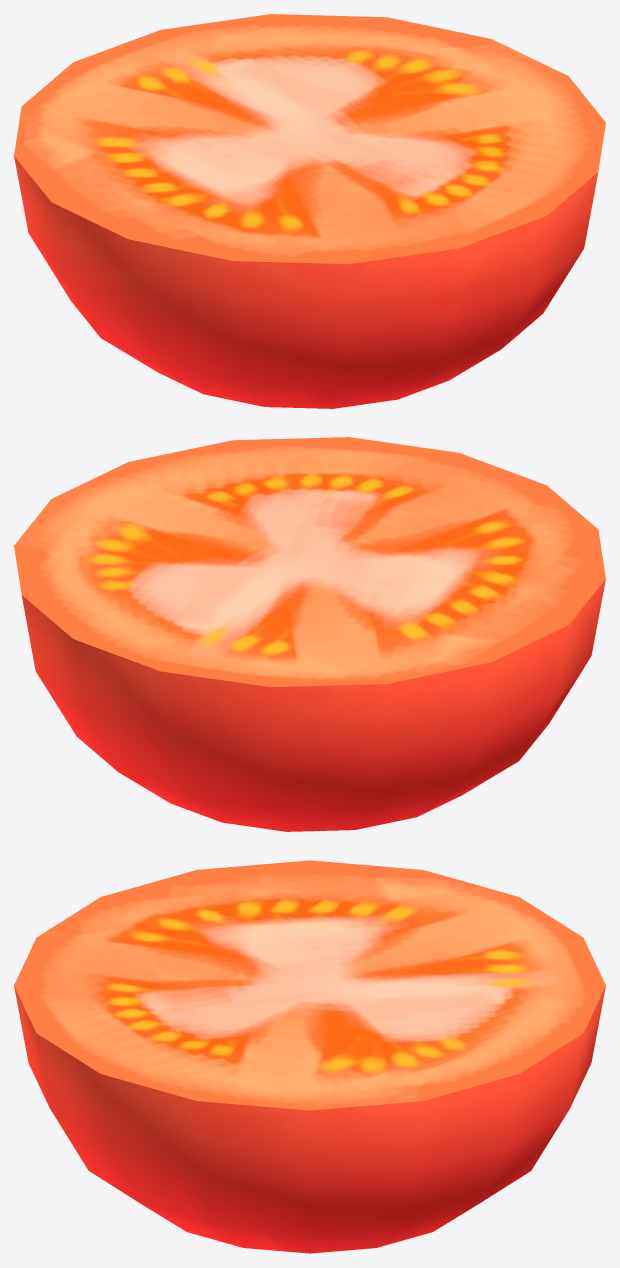
File: tomato_bottom.glb
The picture shows the model from 3 angles, top to bottom: view 1: azimuth 30°, elevation 25°; view 2: azimuth 150°, elevation 25°; view 3: azimuth 270°, elevation 25°; orthographic projection.
Visible parts, largest first — view 1: TomatoBottomB, TomatoBottomA; view 2: TomatoBottomB, TomatoBottomA; view 3: TomatoBottomB, TomatoBottomA.
Boxes of the visible parts, x1,y1,x2,y2 form: TomatoBottomB: (14,14,605,264); TomatoBottomA: (14,156,598,408); TomatoBottomB: (14,437,605,687); TomatoBottomA: (21,579,605,831); TomatoBottomB: (14,860,605,1110); TomatoBottomA: (14,986,605,1253).
Bounding box in the file's own units: 0.96 × 0.4037 × 0.96.
1 material, 1 textured.
